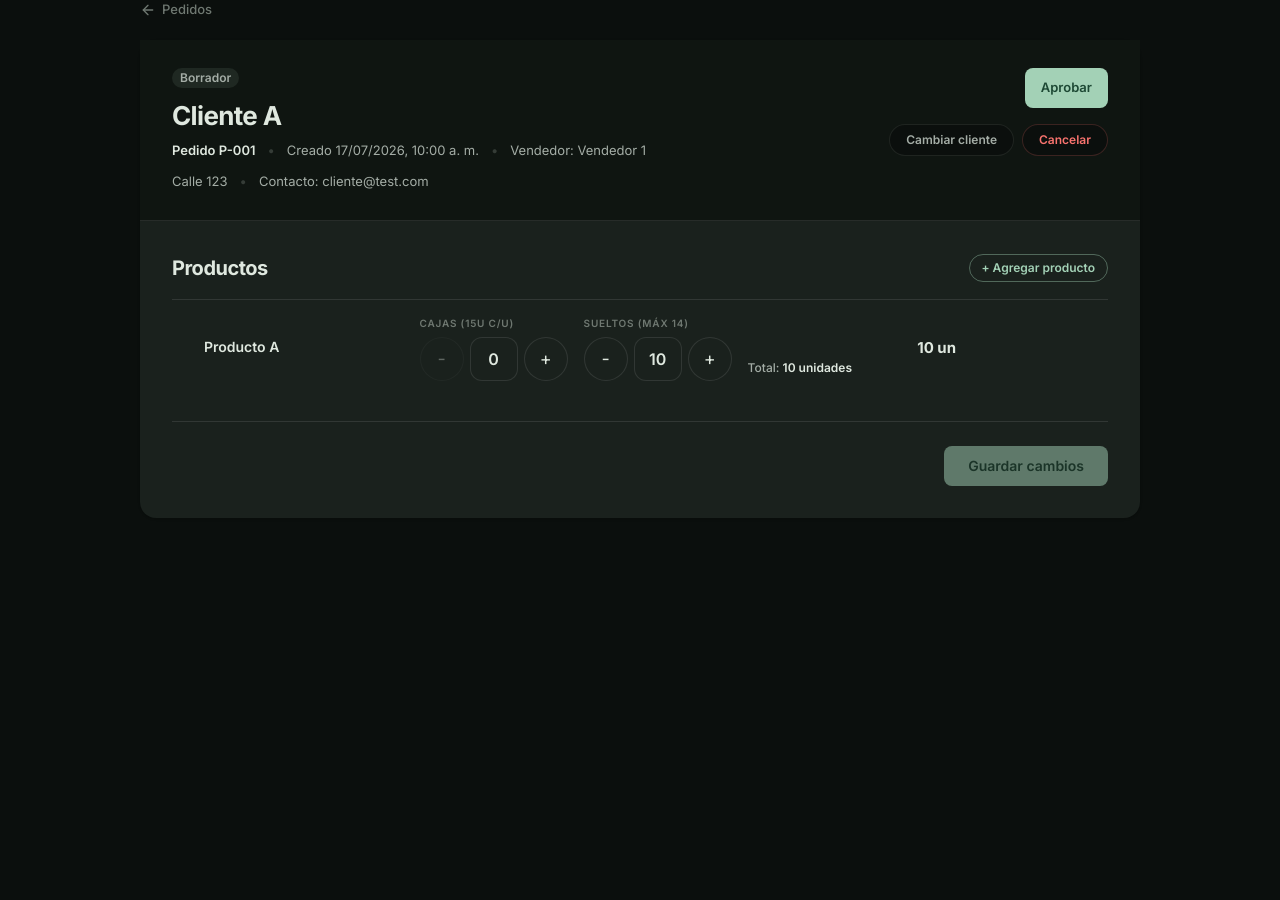
it: PedidoDetailPage › DESIGN-01 — Modal/dialog does not block navigation › confirm dialog backdrop click closes the dialog without executing action
The width and height of the screenshot is (1280, 900).
Expected: the text "Pedido P-001" is shown, [172, 140, 256, 160]
Step 1. Click the button "Aprobar" → coordinates (1066, 88), box [1025, 68, 1108, 108]
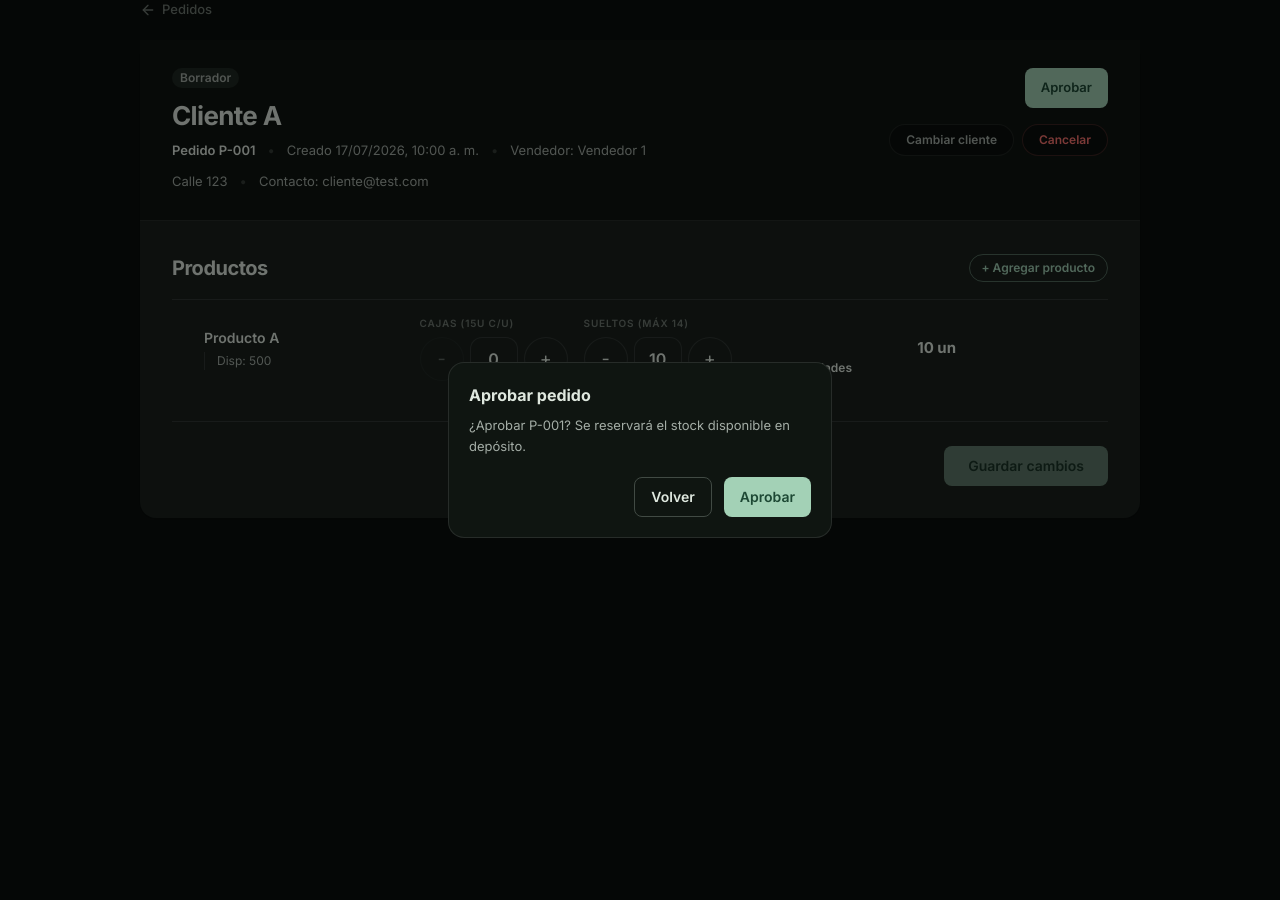
Expected: the element with test id "confirm-dialog" is shown
Note: Click on backdrop (the outer confirm-dialog div, not the inner dialog)
Step 2. Click the element with test id "confirm-dialog" → coordinates (77, 450), box [0, 0, 1279, 899]
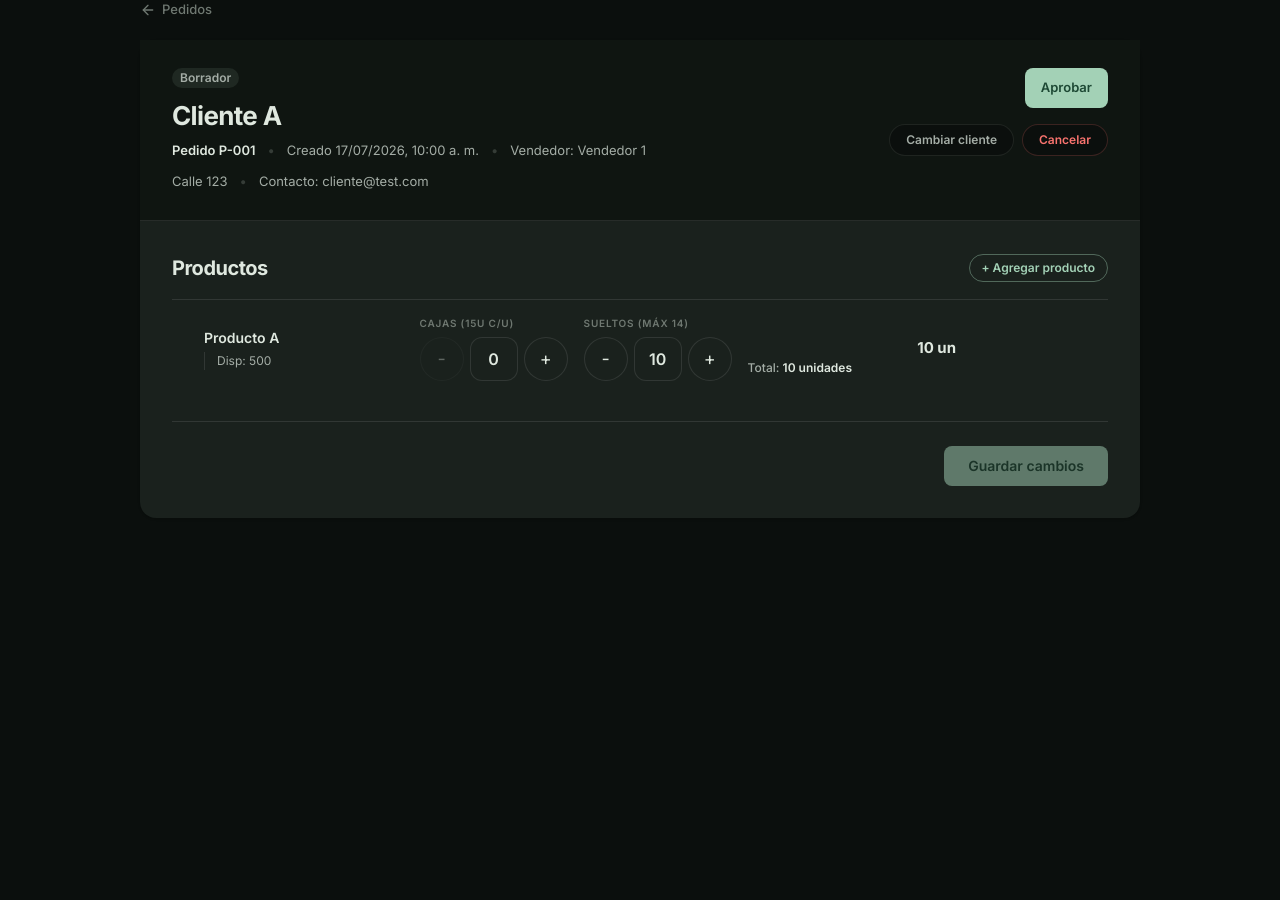
Expected: the element with test id "confirm-dialog" is gone
